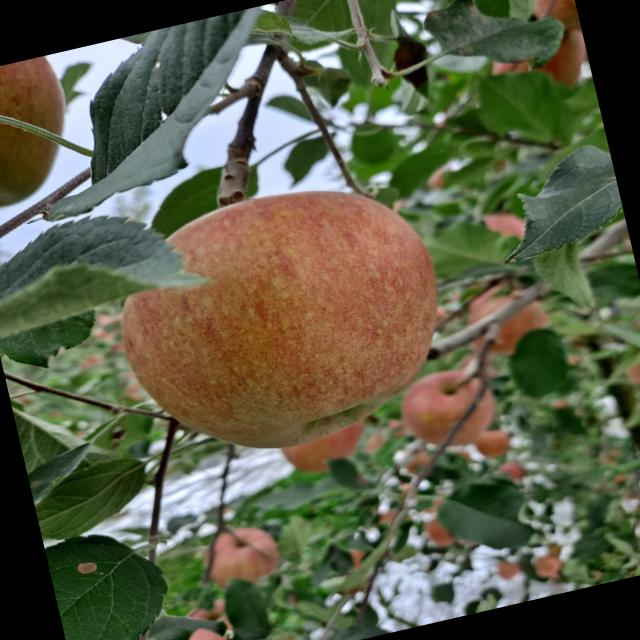fresh: (82, 154, 478, 485)
